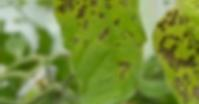Tomato leaf bacterial spot: (27, 0, 151, 104), (146, 0, 199, 104)
